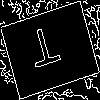T: (25, 24, 65, 78)
